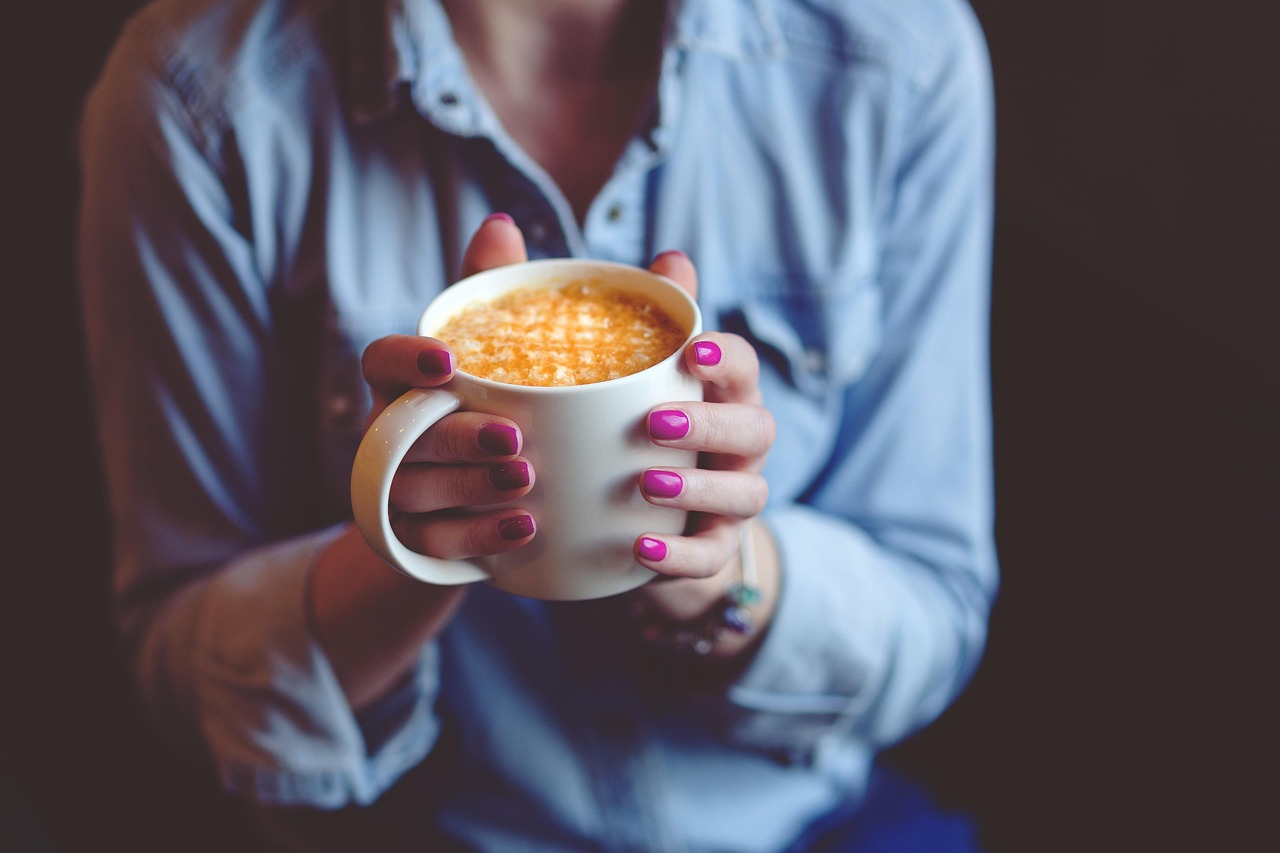mug: (341, 246, 728, 646)
